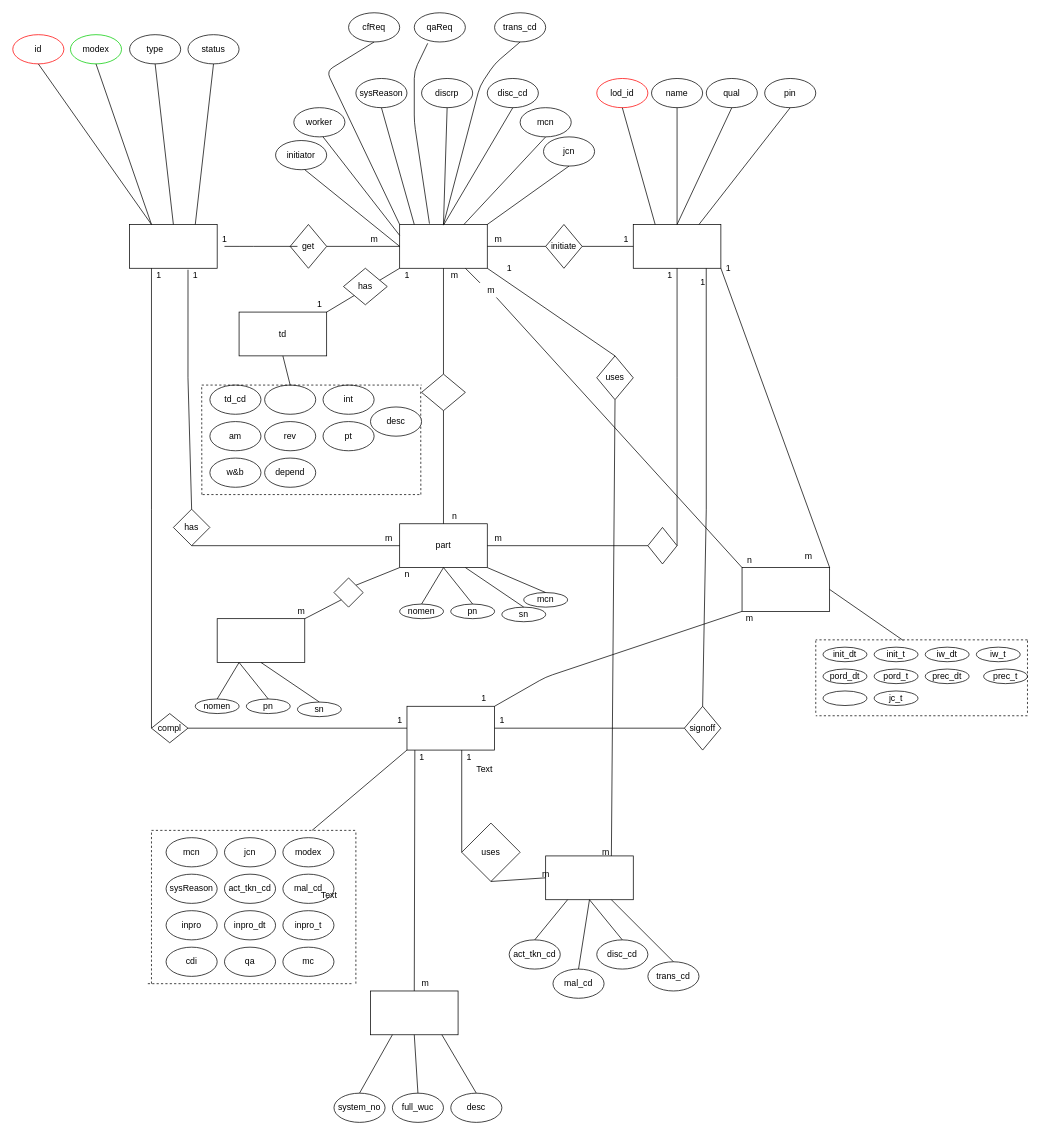
This 1041x1135 diagram has some shape labels left out. The shapes that lost their labels are listed below. From the top down, each one's box as (x1, y1, x2, y2) in pixels, then its label:
(129, 224, 217, 268): acft
(399, 224, 487, 268): discrepancy
(633, 224, 721, 268): personnel
(264, 384, 316, 414): td_basic
(421, 373, 465, 411): r&r
(647, 527, 677, 564): order
(333, 577, 363, 607): is
(741, 567, 830, 611): time
(216, 618, 305, 662): uninstalled
(822, 690, 867, 706): jc_dt
(406, 706, 495, 750): corrAction
(545, 855, 633, 900): code
(370, 990, 458, 1035): wuc
